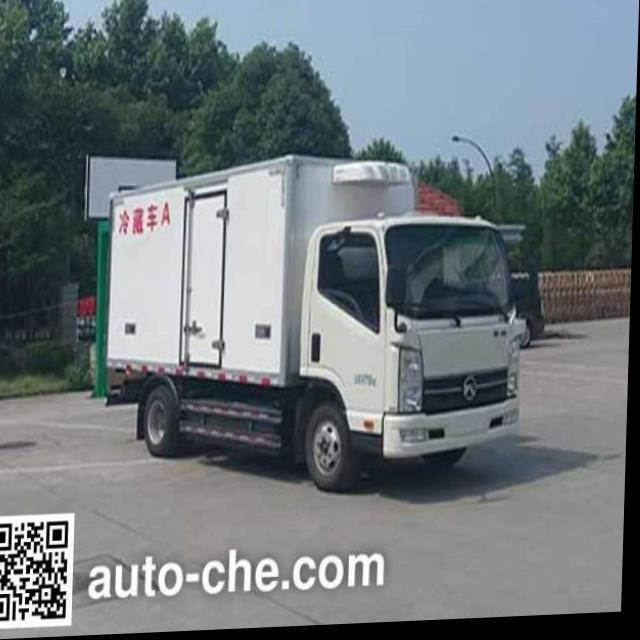covered: (94, 137, 521, 508)
